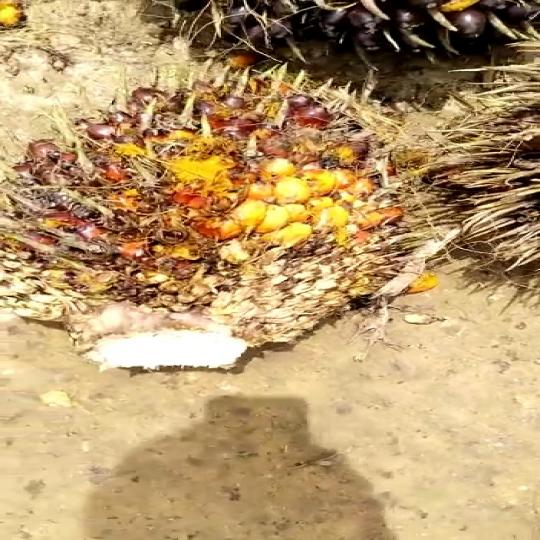masak: (0, 58, 436, 375)
